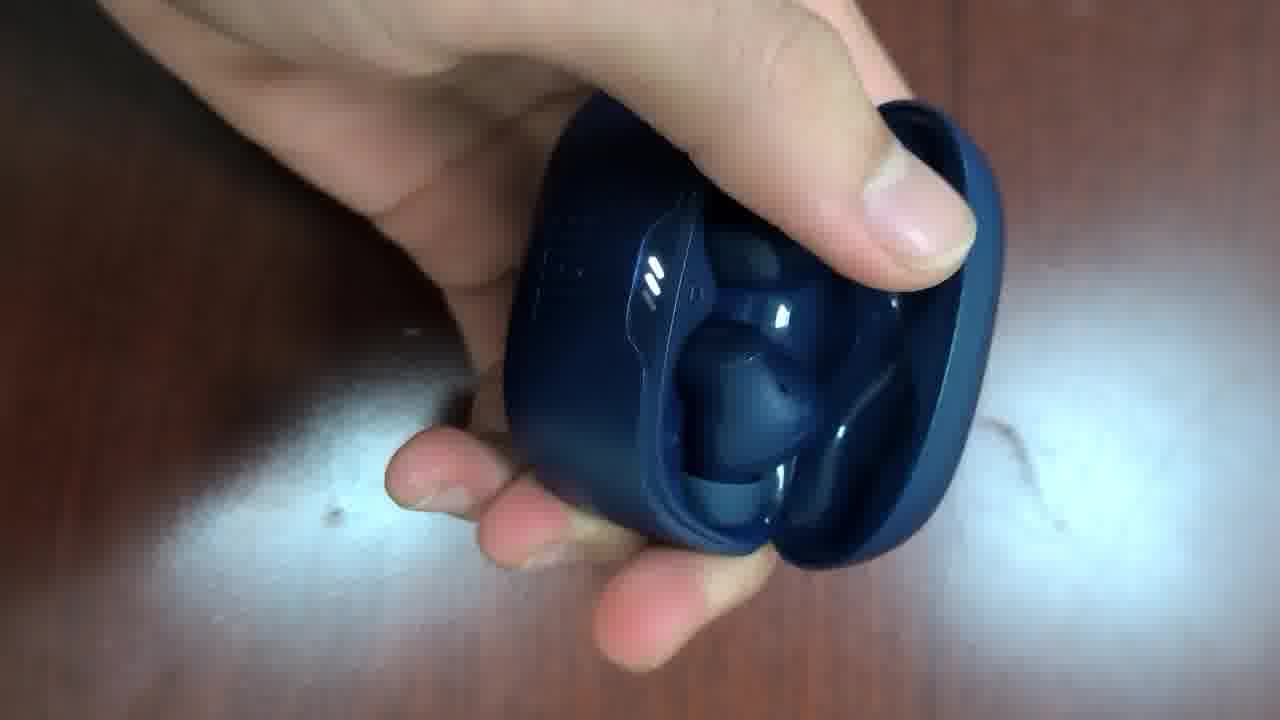Case: (504, 94, 1002, 568)
Earbud: (677, 193, 830, 482), (678, 321, 819, 481)
